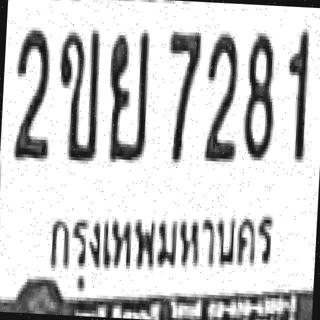A02: (53, 25, 101, 161)
A34: (104, 25, 150, 161)
N01: (283, 27, 310, 161)
N02: (10, 27, 54, 159), (201, 29, 240, 161)
N07: (161, 28, 201, 160)
N08: (240, 29, 278, 158)
P04: (44, 192, 276, 286)
